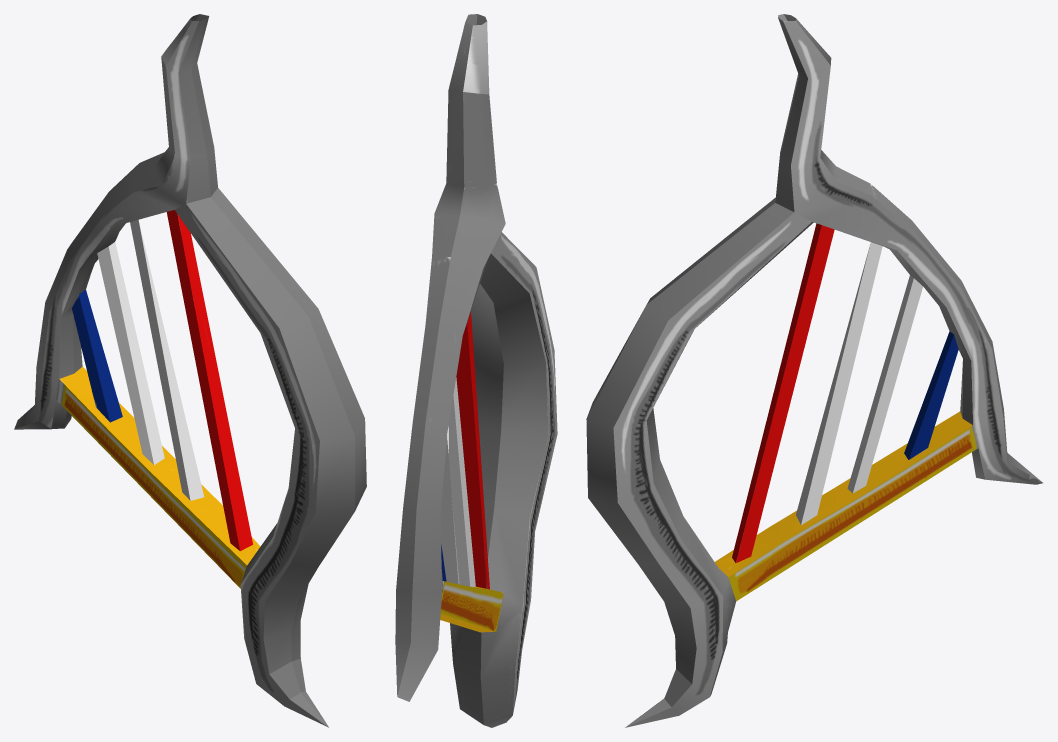
File: Arpa1_000017.obj
The picture shows the model from 3 angles, left to right: view 1: azimuth 30°, elevation 25°; view 2: azimuth 150°, elevation 25°; view 3: azimuth 270°, elevation 25°; orthographic projection. The views are drawn at different scales.
Parts seen in each view (by area): view 1: a1_pCube7.001; view 2: a1_pCube7.001; view 3: a1_pCube7.001.
Boxes of the visible parts, box(x1,y1,x2,y2) form: a1_pCube7.001: box(14, 14, 366, 727); a1_pCube7.001: box(395, 14, 557, 727); a1_pCube7.001: box(586, 14, 1042, 727).
Bounding box in the file's own units: 2.45 × 10.44 × 6.31.
